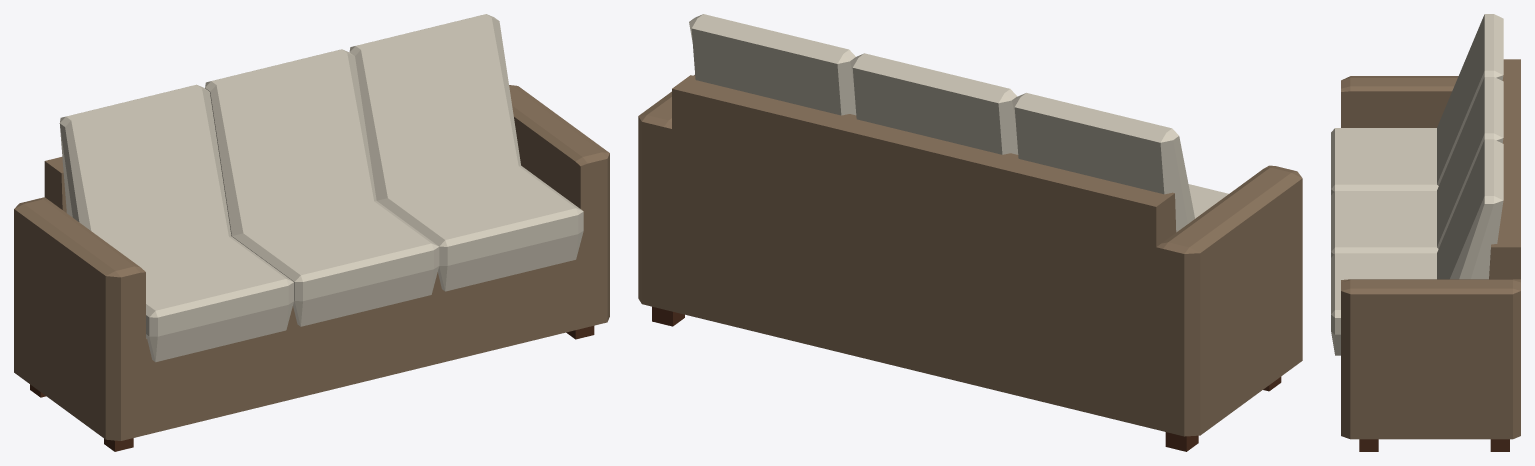
The model's file is Couch_3B.fbx.
3 views of the same model, side by side, from view 1: azimuth 30°, elevation 25°; view 2: azimuth 150°, elevation 25°; view 3: azimuth 270°, elevation 25° (orthographic). The views are drawn at different scales.
Visible parts, largest first — view 1: polySurface2345; view 2: polySurface2345; view 3: polySurface2345.
Boxes of the visible parts, x1=… form: polySurface2345: x1=14, y1=14, x2=609, y2=451; polySurface2345: x1=638, y1=14, x2=1302, y2=451; polySurface2345: x1=1331, y1=14, x2=1520, y2=451.
Bounding box in the file's own units: 2.68 × 1.39 × 0.985.
Materials: 1 (1 with a texture image).
